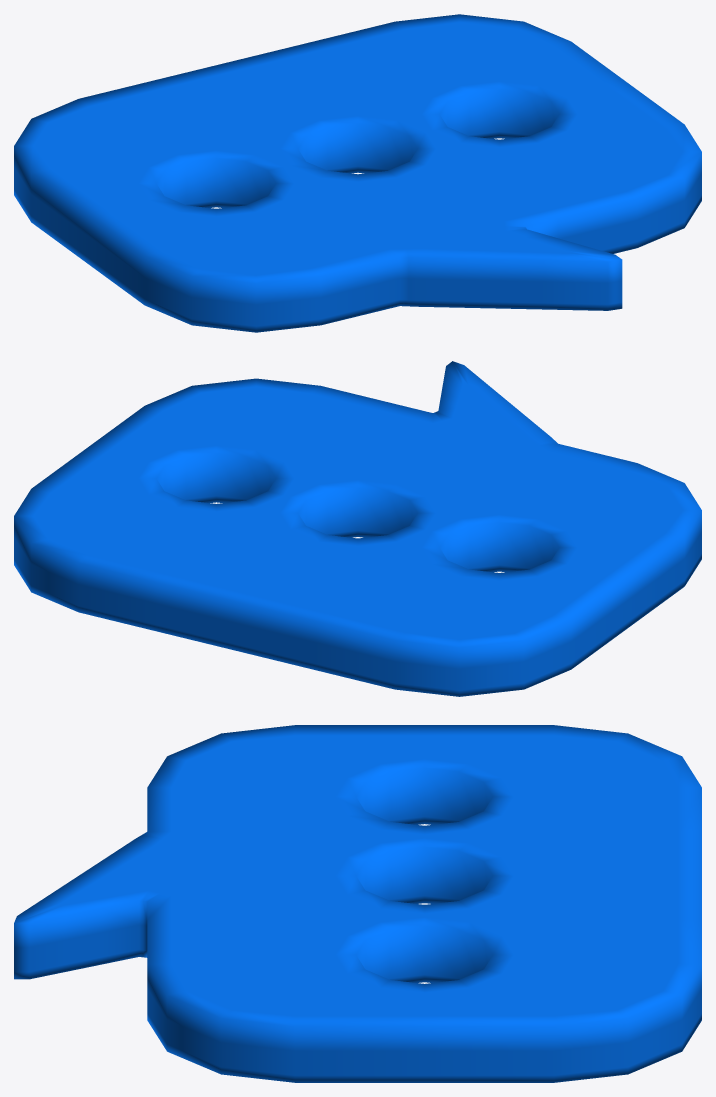
The model's file is msg.glb.
The picture shows the model from 3 angles, top to bottom: view 1: azimuth 30°, elevation 25°; view 2: azimuth 150°, elevation 25°; view 3: azimuth 270°, elevation 25°; orthographic projection. The views are drawn at different scales.
Bounding box in the file's own units: 40.03 × 3.48 × 38.6.
